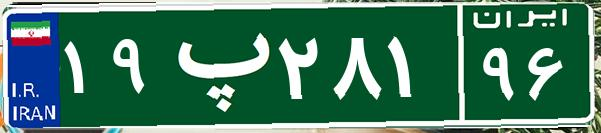1: (385, 28, 445, 110), (57, 26, 110, 107)
2: (273, 28, 330, 110)
6: (525, 38, 570, 115)
8: (330, 28, 385, 110)
9: (475, 38, 525, 113), (110, 28, 158, 105)
پ: (158, 15, 273, 115)
